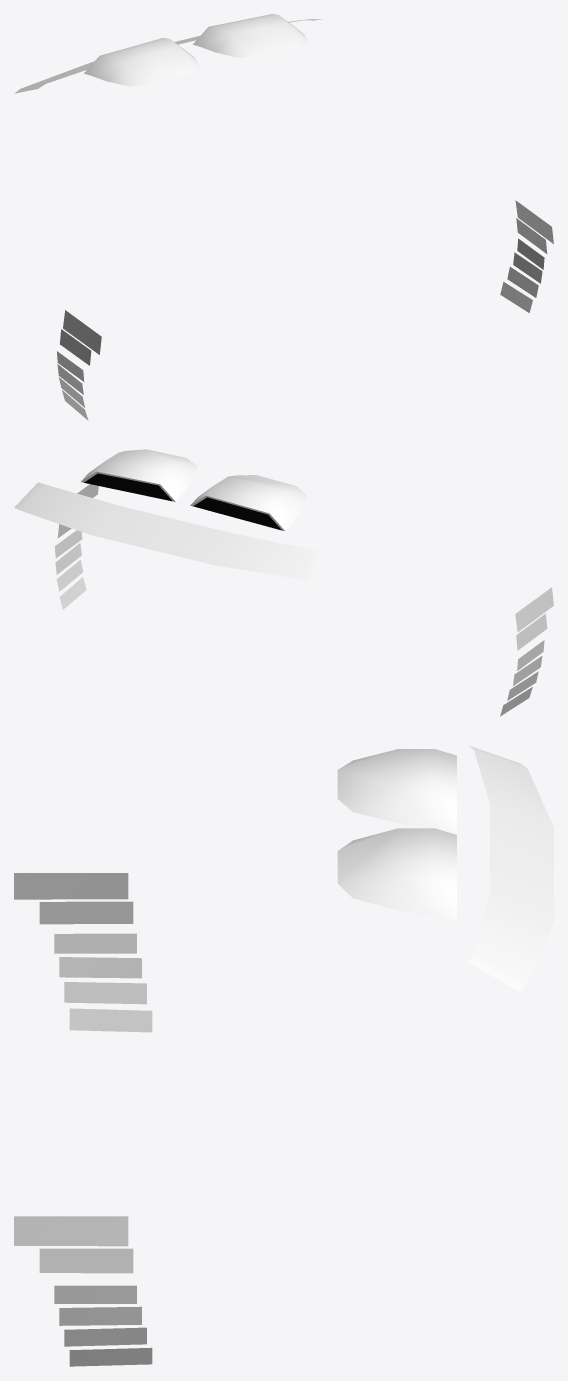
3 views of the same model, one above another, from view 1: azimuth 30°, elevation 25°; view 2: azimuth 150°, elevation 25°; view 3: azimuth 270°, elevation 25° (orthographic). The views are drawn at different scales.
Visible parts, largest first — view 1: rf_c_u; view 2: rf_c_u; view 3: rf_c_u.
Boxes of the visible parts, x1,y1,x2,y2 form: rf_c_u: (14, 14, 553, 420); rf_c_u: (14, 449, 553, 716); rf_c_u: (14, 745, 553, 1366).
Bounding box in the file's own units: 2.15 × 1.11 × 1.4.
Materials: 3 (3 with a texture image).
